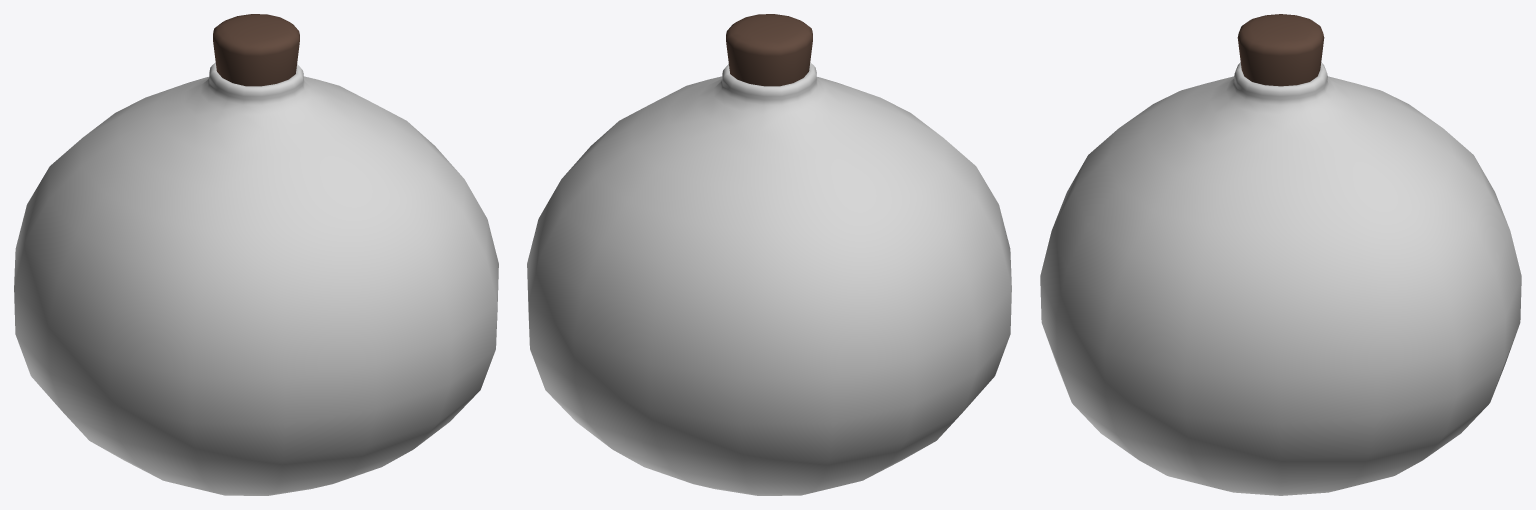
The model's file is potion9-filled-3b41384a75.glb.
The picture shows the model from 3 angles, left to right: view 1: azimuth 30°, elevation 25°; view 2: azimuth 150°, elevation 25°; view 3: azimuth 270°, elevation 25°; orthographic projection.
Parts seen in each view (by area): view 1: Potion9_Filled.obj; view 2: Potion9_Filled.obj; view 3: Potion9_Filled.obj.
Boxes of the visible parts, x1=… form: Potion9_Filled.obj: x1=14, y1=14, x2=498, y2=495; Potion9_Filled.obj: x1=527, y1=14, x2=1011, y2=495; Potion9_Filled.obj: x1=1040, y1=14, x2=1521, y2=495.
Size of the model in its own units: 1.26 by 1.29 by 1.26.
